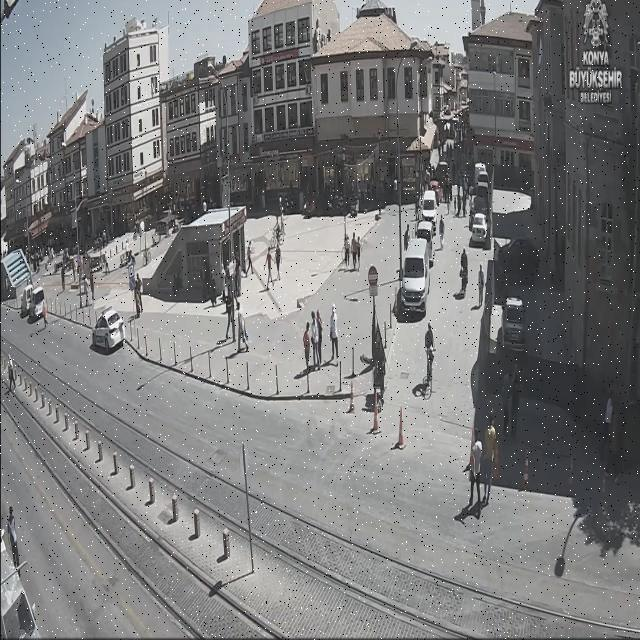Car: (88, 305, 128, 354), (501, 298, 527, 349), (470, 212, 489, 248), (28, 286, 46, 320), (421, 190, 438, 223), (416, 220, 435, 246), (474, 163, 489, 192), (21, 284, 34, 316), (429, 180, 443, 202), (437, 162, 449, 184), (468, 185, 476, 197)
Van: (402, 238, 432, 310)
